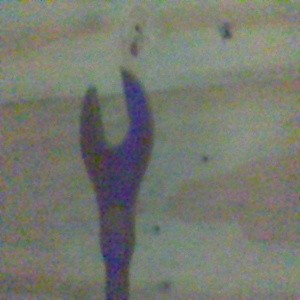spanner: (78, 64, 156, 300)
